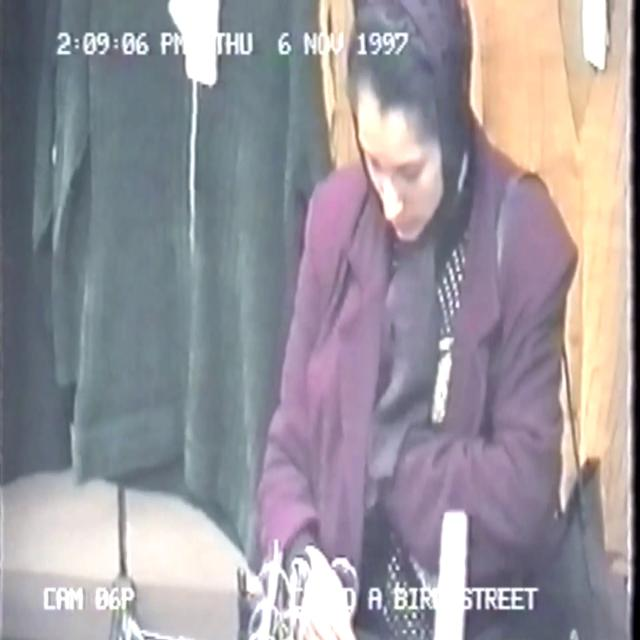Product: (304, 576, 428, 640)
shoplifting: (209, 0, 599, 640)
